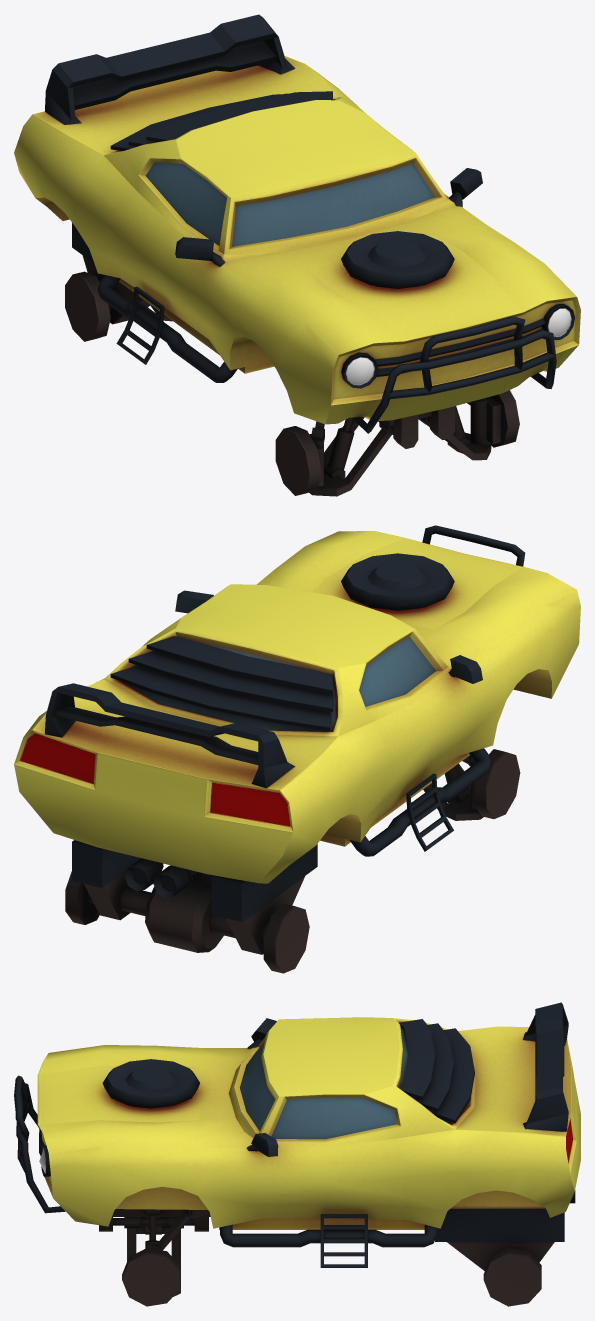
Rendered from HCoupe_v1.FBX.
The picture shows the model from 3 angles, top to bottom: view 1: azimuth 30°, elevation 25°; view 2: azimuth 150°, elevation 25°; view 3: azimuth 270°, elevation 25°; orthographic projection. The views are drawn at different scales.
Parts seen in each view (by area): view 1: HCoupe_v1; view 2: HCoupe_v1; view 3: HCoupe_v1.
Part boxes in pixels (x1,y1,x2,y2): HCoupe_v1: (14,14,580,496); HCoupe_v1: (14,525,580,973); HCoupe_v1: (14,1002,580,1306).
Bounding box in the file's own units: 2.45 × 1.94 × 4.52.
